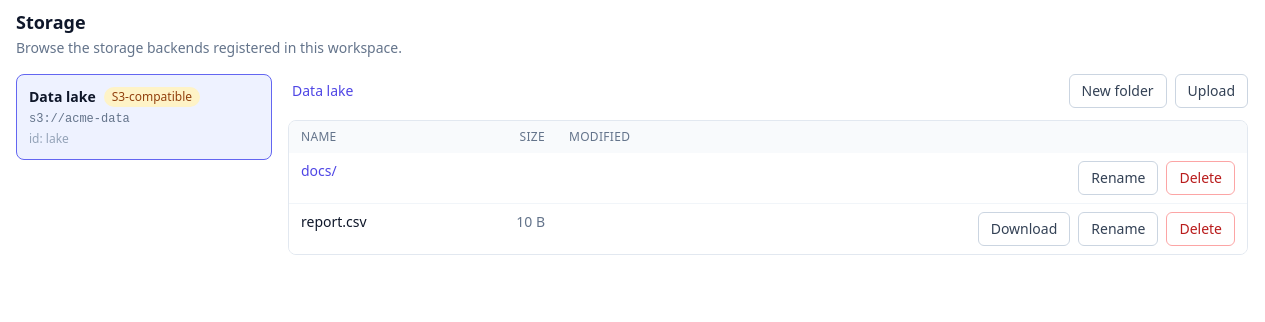
Scenario: renaming › shows a name clash from the server (409) and keeps the editor open
This screenshot has width=1265, height=322.
Click the button with aria-label "Rename report.csv" at (1118, 229), box 1078,212 -> 1158,246
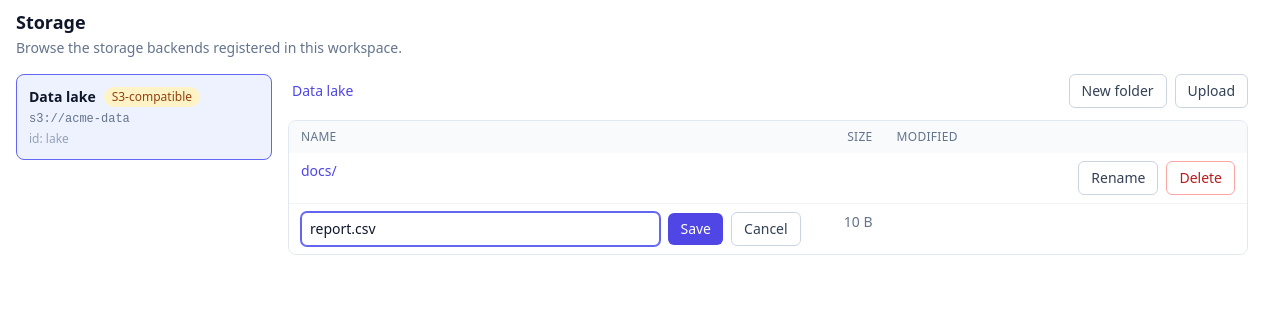
Replace the text in the field named "New name for report.csv" with "docs" at (481, 229), box 301,212 -> 660,246
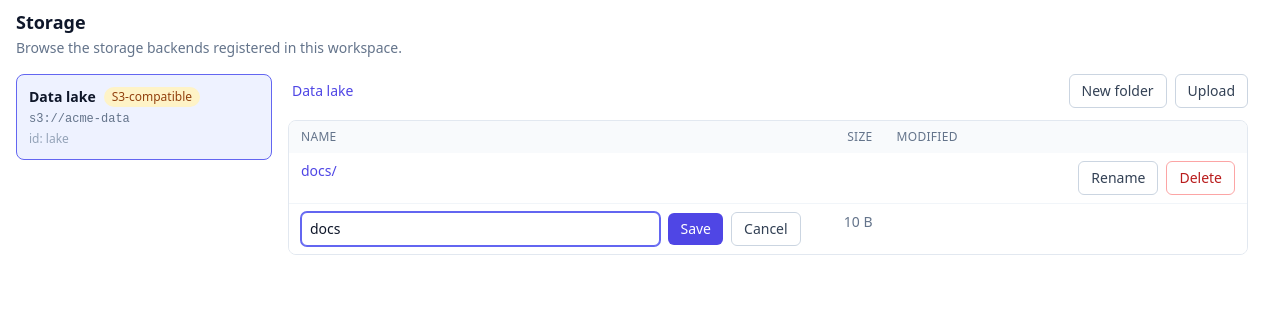
Click the button "Save" at (696, 229), box 668,213 -> 723,245
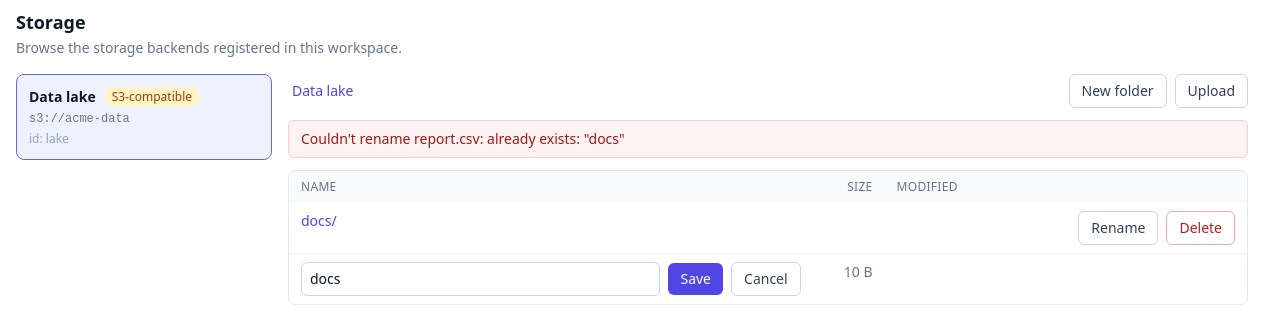
Expected: the text "Couldn't rename report.csv: already exists: \"docs\"" is shown, 288,120 -> 1248,158
